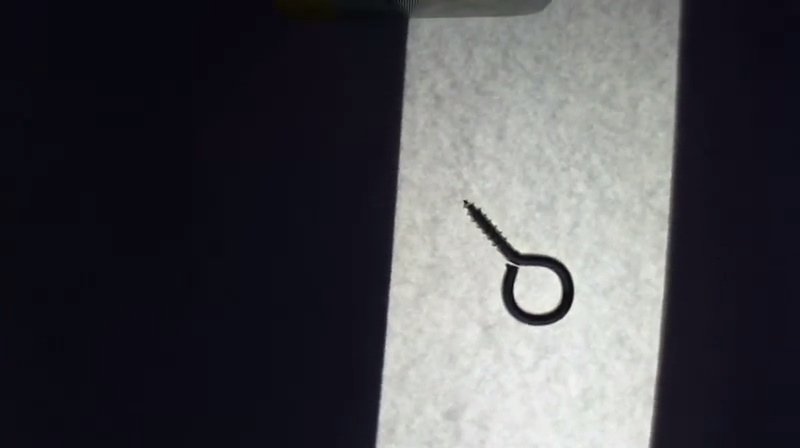O001: (459, 192, 577, 327)
